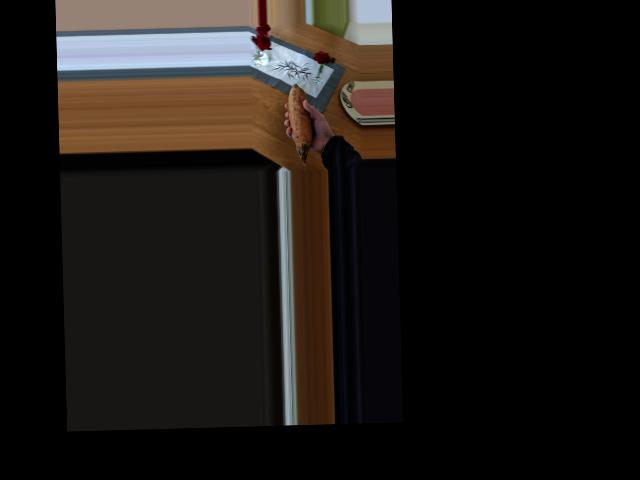sweet_potato: (284, 81, 320, 158)
